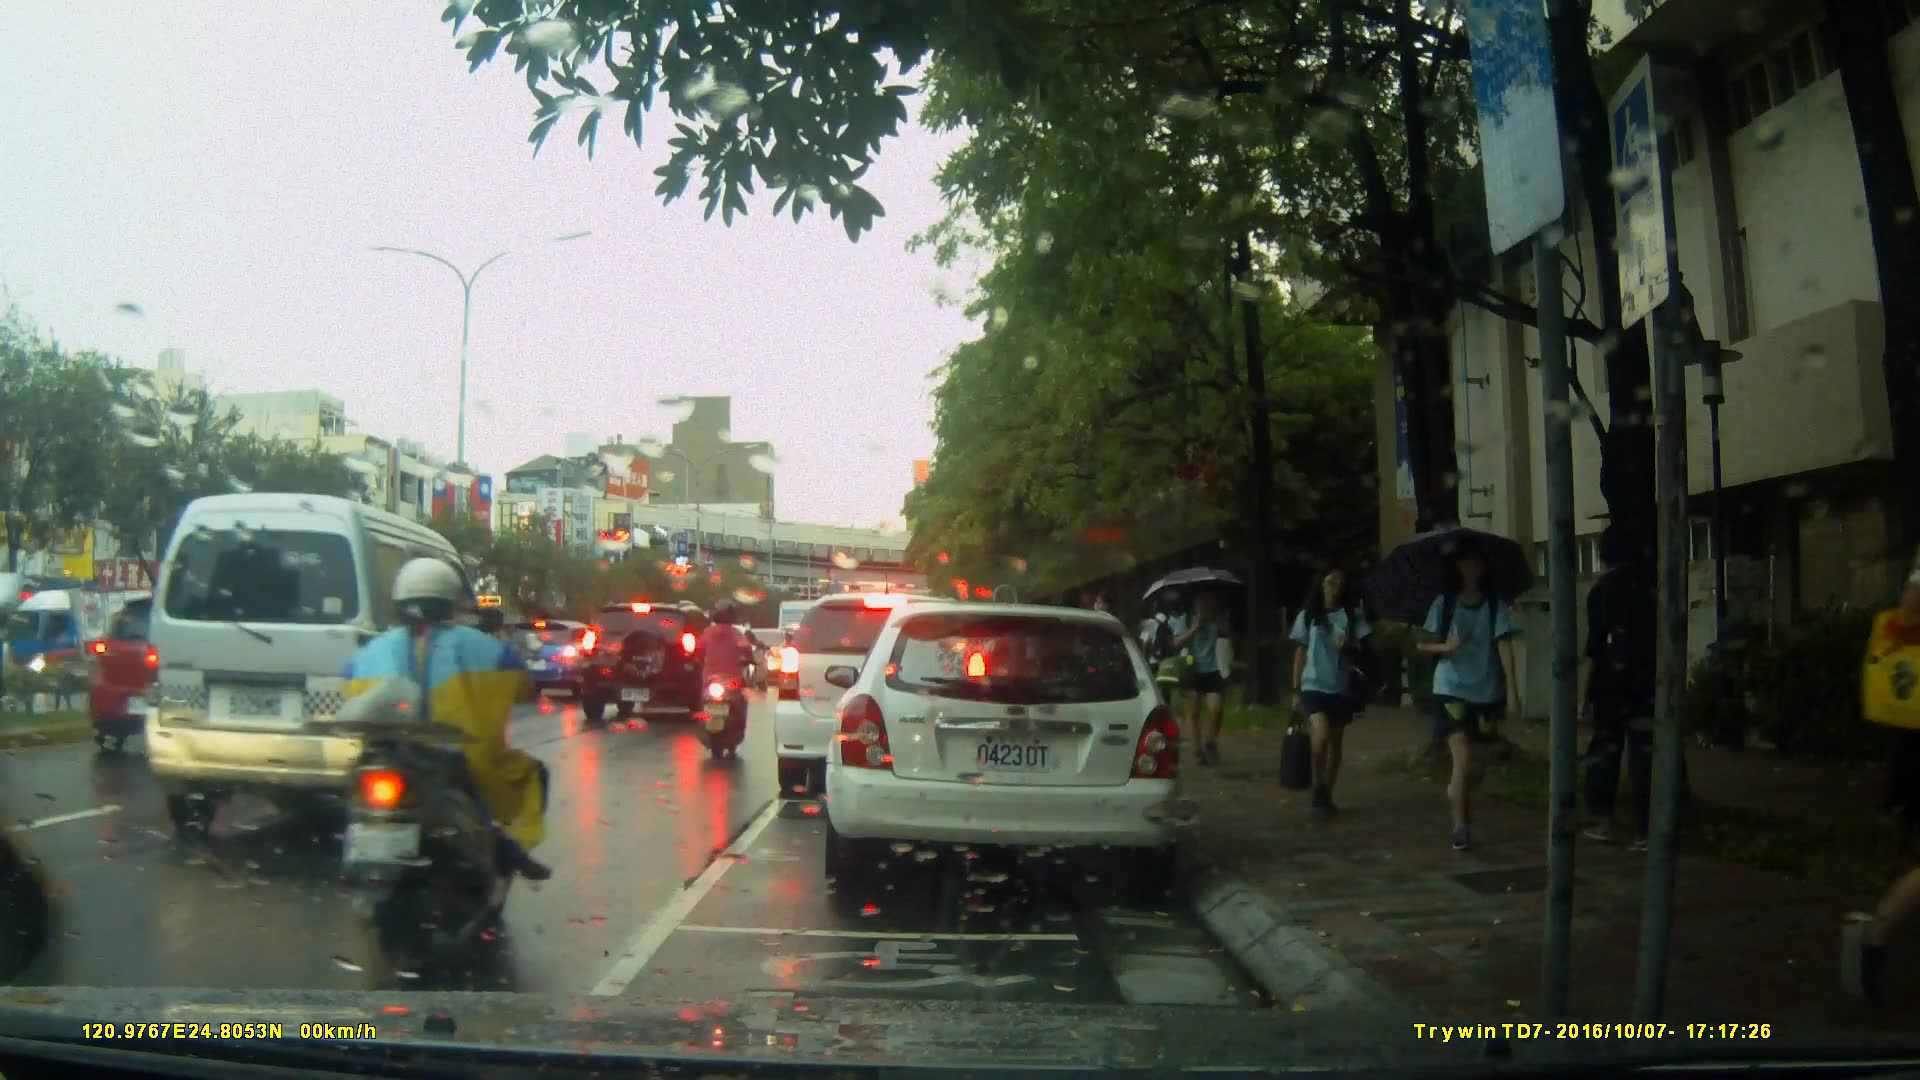pedestrian: (1393, 537, 1527, 856), (1576, 522, 1686, 869), (1867, 430, 1920, 1011), (1276, 561, 1369, 827), (1170, 581, 1237, 774)
rider: (330, 546, 549, 971), (690, 599, 758, 759)
vehicle: (140, 490, 494, 861), (815, 593, 1204, 909), (770, 590, 994, 802), (576, 603, 737, 726)
